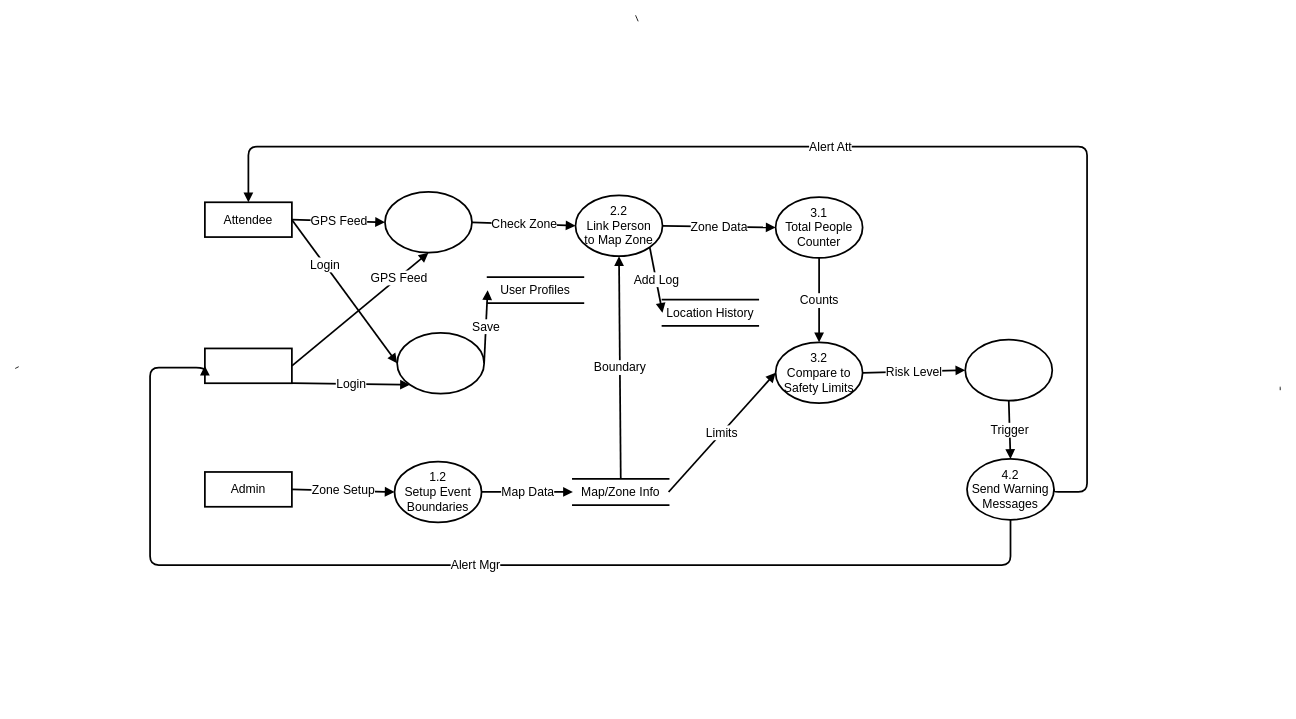
The diagram is 1296 pixels wide and 719 high, and some of its shapes have lost their labels. Here are the shapes that lost their labels. From the top down, the box of each, then its label:
(384, 191, 472, 253): 2.1 Collect GPS Signals
(204, 347, 292, 384): Manager
(396, 331, 485, 394): 1.1 Verify User Identity
(964, 338, 1053, 401): 4.1 Identify Risk Areas
